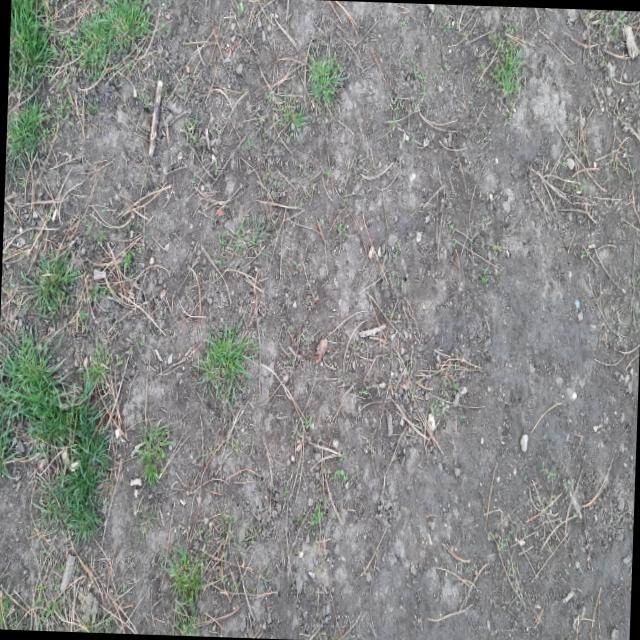grass: (0, 318, 125, 570), (7, 0, 150, 178), (277, 41, 347, 130), (22, 244, 85, 332), (0, 573, 72, 631), (198, 327, 251, 405), (164, 545, 202, 636), (74, 564, 110, 633), (134, 424, 172, 487), (489, 34, 523, 99)
white-sand: (0, 0, 640, 640)
